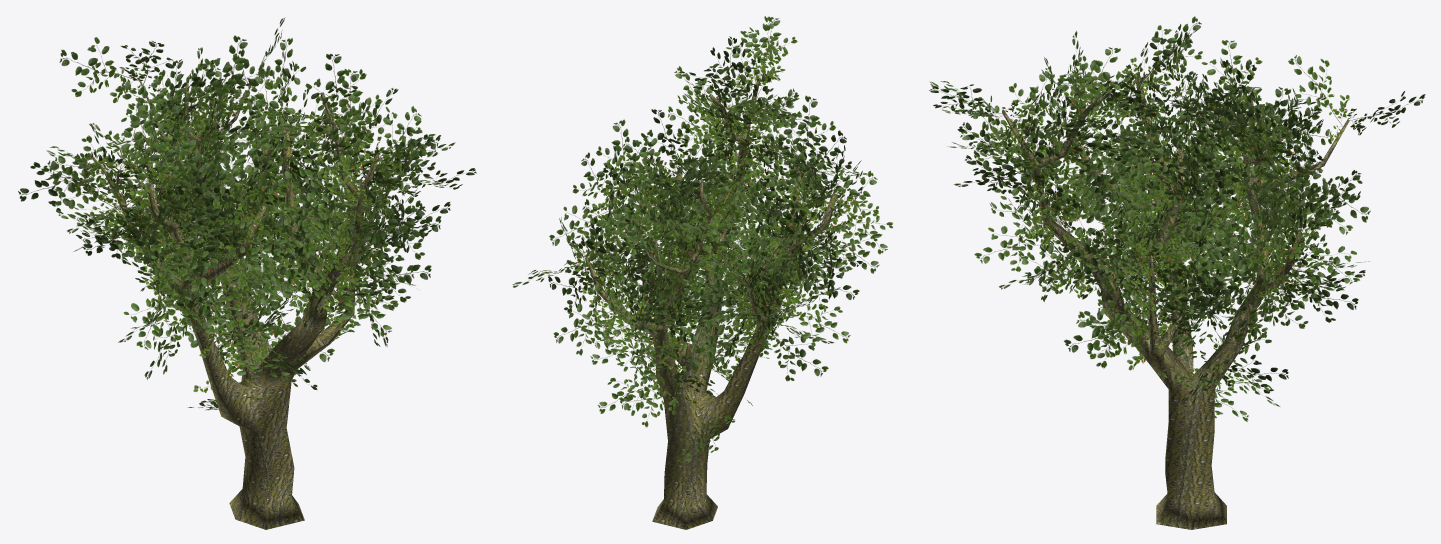
The picture shows the model from 3 angles, left to right: view 1: azimuth 30°, elevation 25°; view 2: azimuth 150°, elevation 25°; view 3: azimuth 270°, elevation 25°; orthographic projection. The views are drawn at different scales.
Visible parts, largest first — view 1: Tree, Tree Branch.241, Tree Branch.144, Tree Branch.171, Tree Branch.220, Tree Branch.089, Tree Branch.271, Tree Branch.146, Tree Branch.198, Tree Branch.008, Tree Branch.261, Tree Branch.272 (+58 smaller); view 2: Tree, Tree Branch.250, Tree Branch.158, Tree Branch.114, Tree Branch.234, Tree Branch.148, Tree Branch.222, Tree Branch.154, Tree Branch.229, Tree Branch.204, Tree Branch.195, Tree Branch.147 (+63 smaller); view 3: Tree, Tree Branch.292, Tree Branch.285, Tree Branch.107, Tree Branch.219, Tree Branch.043, Tree Branch.265, Tree Branch.067, Tree Branch.254, Tree Branch.262, Tree Branch.061, Tree Branch.111 (+58 smaller).
Boxes of the visible parts, bbox=[...] form: Tree: bbox=[89, 77, 390, 529]; Tree Branch.241: bbox=[191, 35, 265, 119]; Tree Branch.144: bbox=[113, 102, 177, 194]; Tree Branch.171: bbox=[41, 152, 122, 231]; Tree Branch.220: bbox=[59, 37, 145, 103]; Tree Branch.089: bbox=[281, 148, 367, 207]; Tree Branch.271: bbox=[305, 53, 366, 135]; Tree Branch.146: bbox=[133, 119, 208, 205]; Tree Branch.198: bbox=[198, 155, 270, 224]; Tree Branch.008: bbox=[312, 274, 397, 336]; Tree Branch.261: bbox=[278, 188, 355, 248]; Tree Branch.272: bbox=[318, 69, 382, 160]; Tree: bbox=[585, 78, 836, 529]; Tree Branch.250: bbox=[596, 119, 657, 198]; Tree Branch.158: bbox=[686, 299, 753, 369]; Tree Branch.114: bbox=[759, 313, 828, 381]; Tree Branch.234: bbox=[709, 170, 780, 240]; Tree Branch.148: bbox=[819, 197, 892, 254]; Tree Branch.222: bbox=[640, 188, 694, 269]; Tree Branch.154: bbox=[770, 293, 850, 346]; Tree Branch.229: bbox=[684, 138, 734, 220]; Tree Branch.204: bbox=[803, 221, 879, 276]; Tree Branch.195: bbox=[777, 95, 835, 174]; Tree Branch.147: bbox=[780, 153, 848, 207]; Tree: bbox=[1002, 78, 1349, 529]; Tree Branch.292: bbox=[1136, 188, 1213, 262]; Tree Branch.285: bbox=[1064, 297, 1148, 368]; Tree Branch.107: bbox=[1216, 214, 1285, 294]; Tree Branch.219: bbox=[1288, 55, 1349, 141]; Tree Branch.043: bbox=[1112, 128, 1192, 202]; Tree Branch.265: bbox=[1064, 47, 1129, 121]; Tree Branch.067: bbox=[1166, 107, 1246, 164]; Tree Branch.254: bbox=[1036, 184, 1120, 241]; Tree Branch.262: bbox=[1032, 142, 1120, 201]; Tree Branch.061: bbox=[1104, 150, 1190, 216]; Tree Branch.111: bbox=[1289, 225, 1360, 284].
Size of the model in its own units: 1218 by 1518 by 1418.
2 materials, 2 textured.
